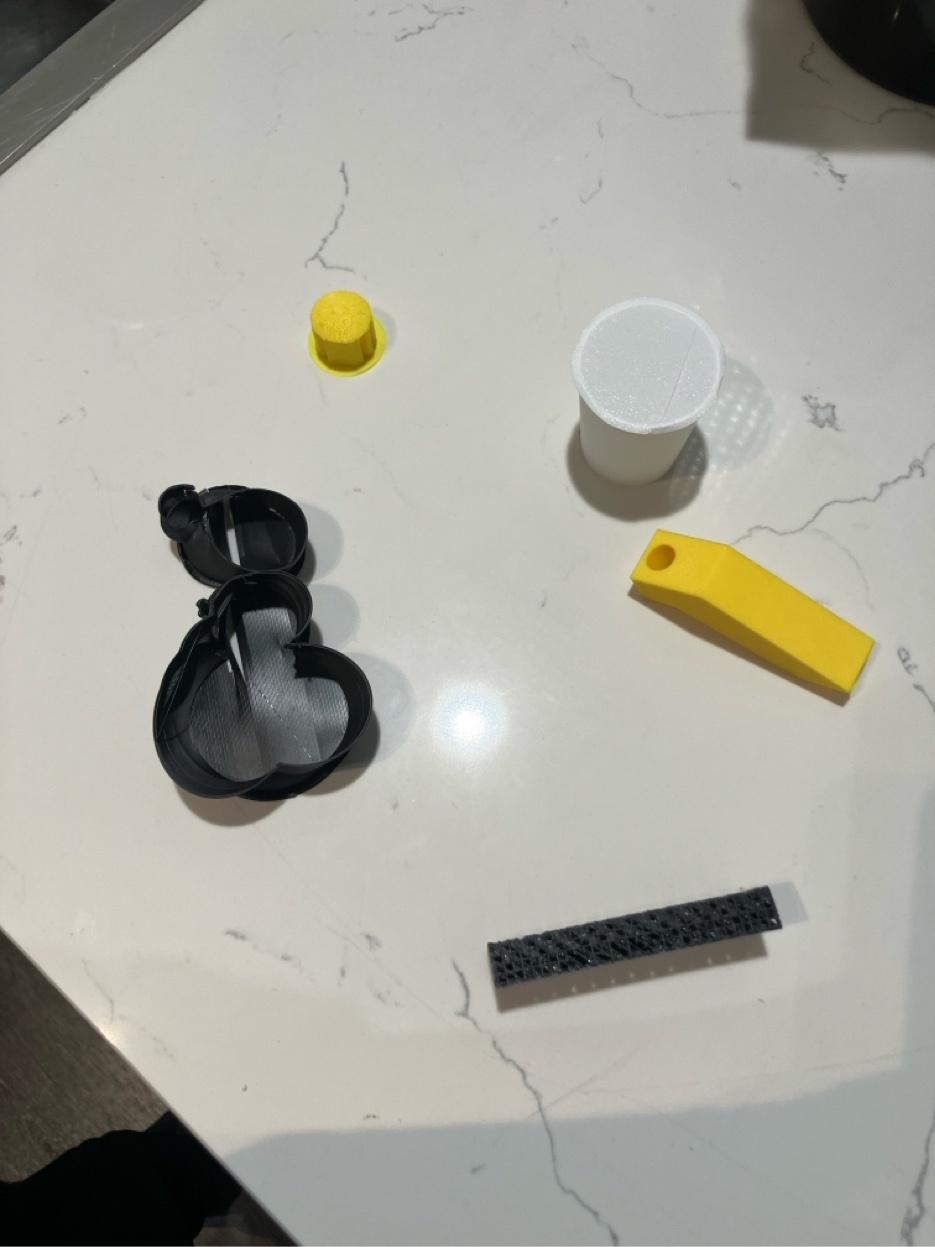bracket: (631, 529, 875, 703)
cup: (571, 297, 725, 485)
holder: (153, 485, 378, 802)
knob: (308, 289, 387, 377)
slotted_block: (489, 887, 781, 988)
